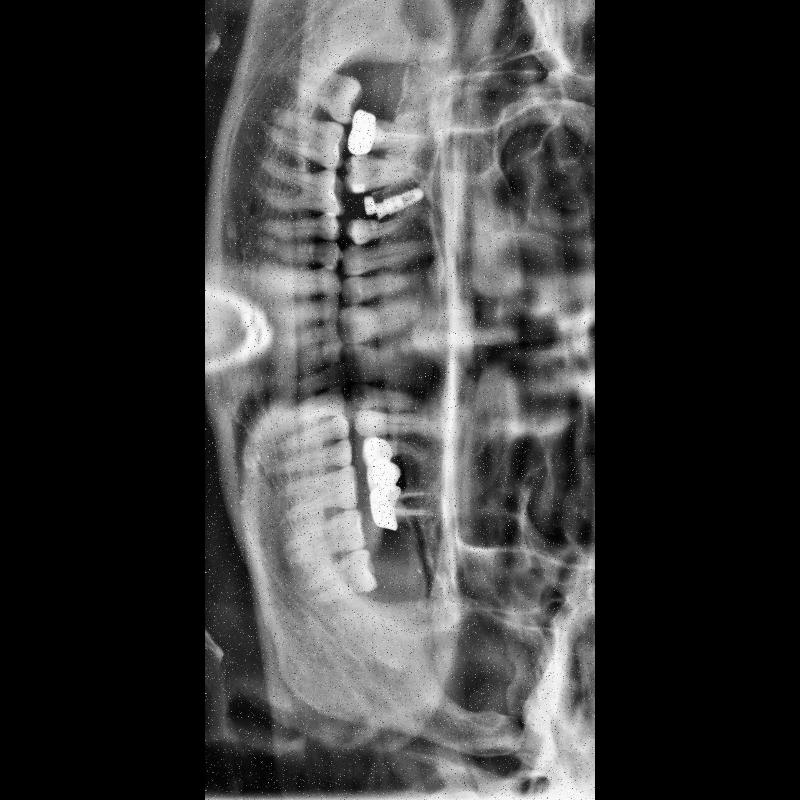osstem: (373, 182, 433, 220)
